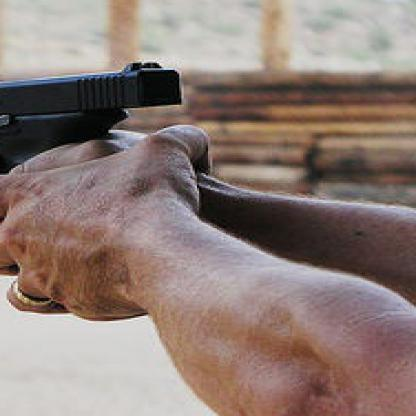gun: (0, 56, 182, 197)
